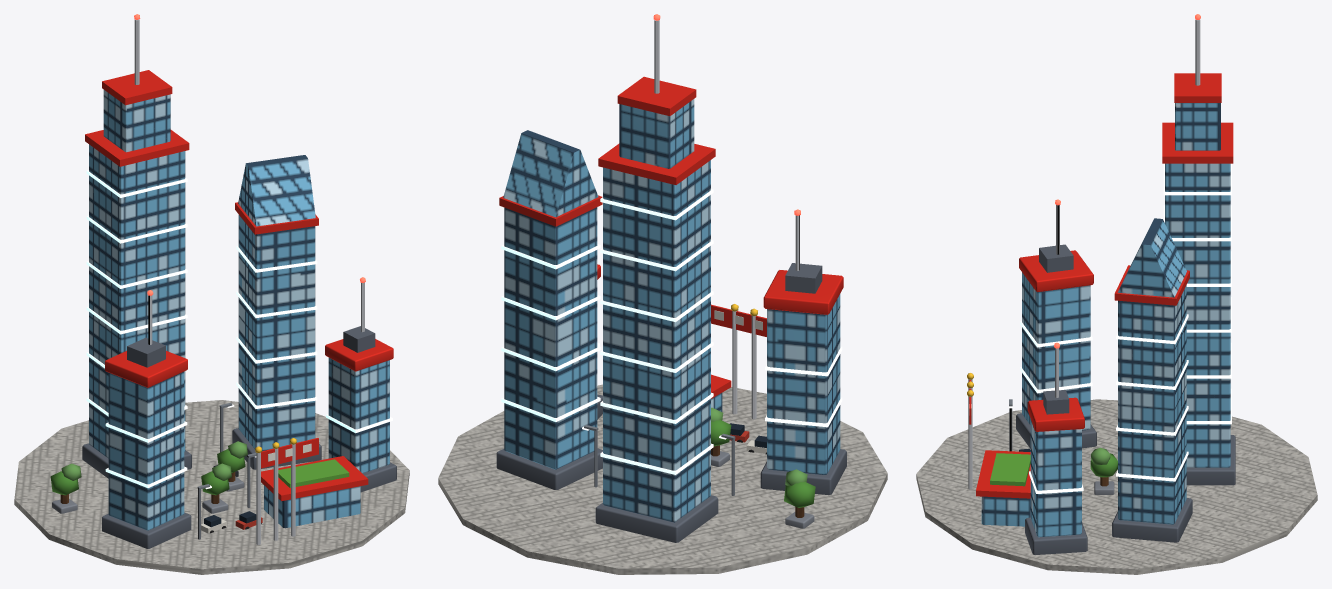
The model's file is city_dl7_red.glb.
3 views of the same model, side by side, from view 1: azimuth 30°, elevation 25°; view 2: azimuth 150°, elevation 25°; view 3: azimuth 270°, elevation 25° (orthographic). The views are drawn at different scales.
Visible parts, largest first — view 1: city_dl7_red; view 2: city_dl7_red; view 3: city_dl7_red.
Part boxes in pixels (x1=…): city_dl7_red: x1=14, y1=14, x2=409, y2=574; city_dl7_red: x1=438, y1=14, x2=887, y2=574; city_dl7_red: x1=916, y1=14, x2=1317, y2=574.
Bounding box in the file's own units: 1.59 × 2 × 1.59.
4 materials, 1 textured.
